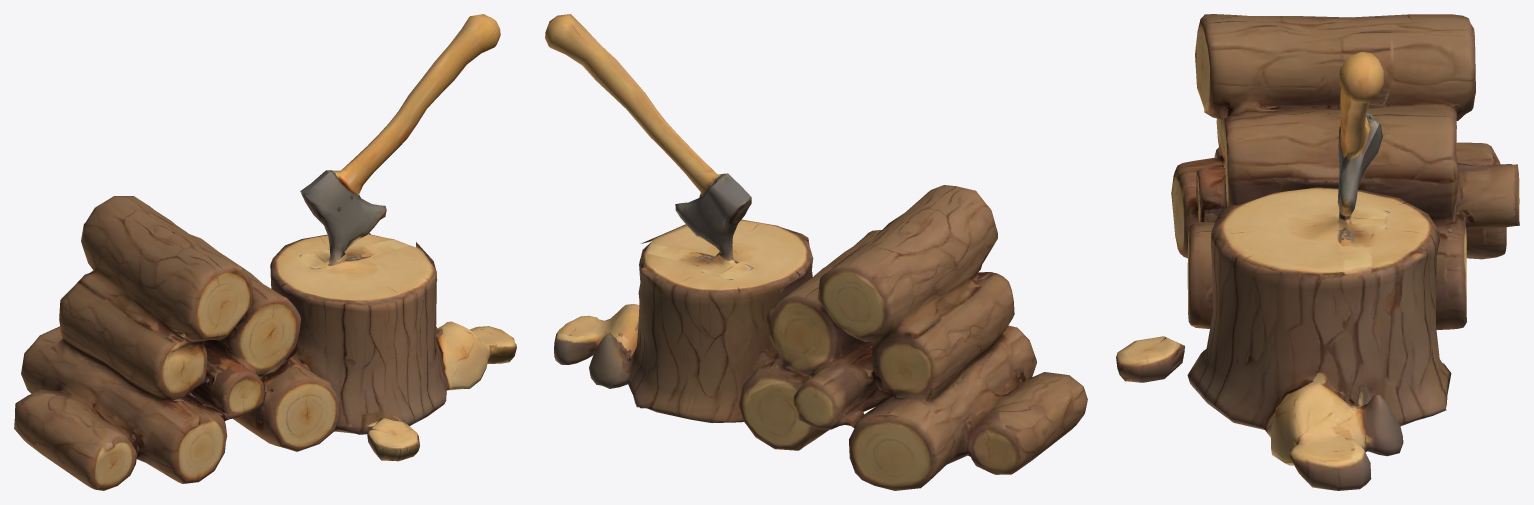
The model's file is holzstapel.glb.
The picture shows the model from 3 angles, left to right: view 1: azimuth 30°, elevation 25°; view 2: azimuth 150°, elevation 25°; view 3: azimuth 270°, elevation 25°; orthographic projection. The views are drawn at different scales.
Parts seen in each view (by area): view 1: baum; view 2: baum; view 3: baum.
Boxes of the visible parts, x1,y1,x2,y2 form: baum: [14, 14, 516, 490]; baum: [545, 14, 1087, 490]; baum: [1116, 14, 1519, 490].
Size of the model in its own units: 1.6 by 1.1 by 0.9313.
Materials: 1 (1 with a texture image).
